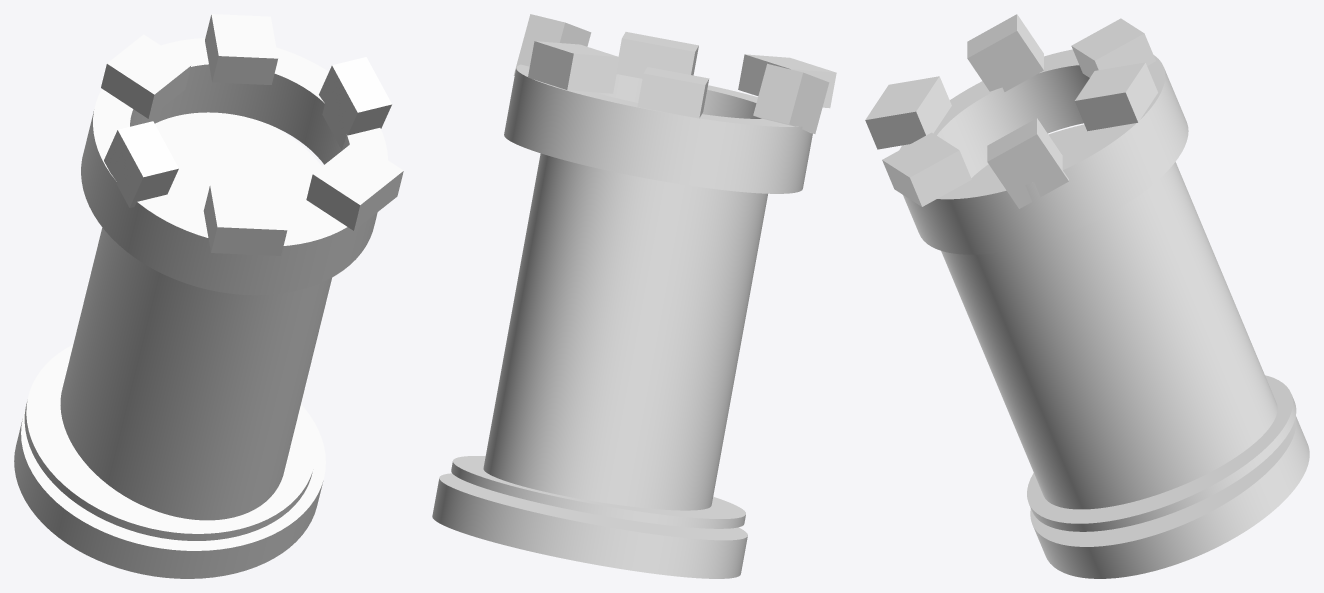
3 renders of one model, left to right at view 1: azimuth 30°, elevation 25°; view 2: azimuth 150°, elevation 25°; view 3: azimuth 270°, elevation 25°, orthographic. The views are drawn at different scales.
Parts seen in each view (by area): view 1: mesh_id231, mesh_id233, mesh_id241, mesh_id235, mesh_id287, mesh_id259, mesh_id307, mesh_id300, mesh_id271, mesh_id265; view 2: mesh_id231, mesh_id233, mesh_id241, mesh_id235, mesh_id300, mesh_id271, mesh_id287, mesh_id307, mesh_id259, mesh_id265; view 3: mesh_id231, mesh_id233, mesh_id241, mesh_id235, mesh_id265, mesh_id259, mesh_id287, mesh_id300, mesh_id271, mesh_id307.
Part boxes in pixels (<box>): mesh_id231: <box>60,112,332,520</box>; mesh_id233: <box>81,38,387,295</box>; mesh_id241: <box>14,405,325,578</box>; mesh_id235: <box>24,345,315,540</box>; mesh_id287: <box>306,139,403,230</box>; mesh_id259: <box>203,185,287,255</box>; mesh_id307: <box>101,34,191,118</box>; mesh_id300: <box>205,14,278,84</box>; mesh_id271: <box>104,121,178,207</box>; mesh_id265: <box>319,57,391,149</box>; mesh_id231: <box>483,153,767,510</box>; mesh_id233: <box>504,64,812,193</box>; mesh_id241: <box>432,473,747,578</box>; mesh_id235: <box>451,456,745,528</box>; mesh_id300: <box>528,41,619,93</box>; mesh_id271: <box>753,63,829,133</box>; mesh_id287: <box>616,32,698,78</box>; mesh_id307: <box>637,67,709,118</box>; mesh_id259: <box>738,54,836,108</box>; mesh_id265: <box>513,14,591,75</box>; mesh_id231: <box>941,124,1277,509</box>; mesh_id233: <box>899,49,1188,254</box>; mesh_id241: <box>1030,416,1309,578</box>; mesh_id235: <box>1027,375,1296,531</box>; mesh_id265: <box>987,118,1068,208</box>; mesh_id259: <box>865,76,951,149</box>; mesh_id287: <box>882,132,971,206</box>; mesh_id300: <box>1075,62,1157,131</box>; mesh_id271: <box>967,14,1043,91</box>; mesh_id307: <box>1071,18,1155,77</box>.
Bounding box in the file's own units: 0.0727 × 0.1312 × 0.1064.
10 materials, 10 textured.
